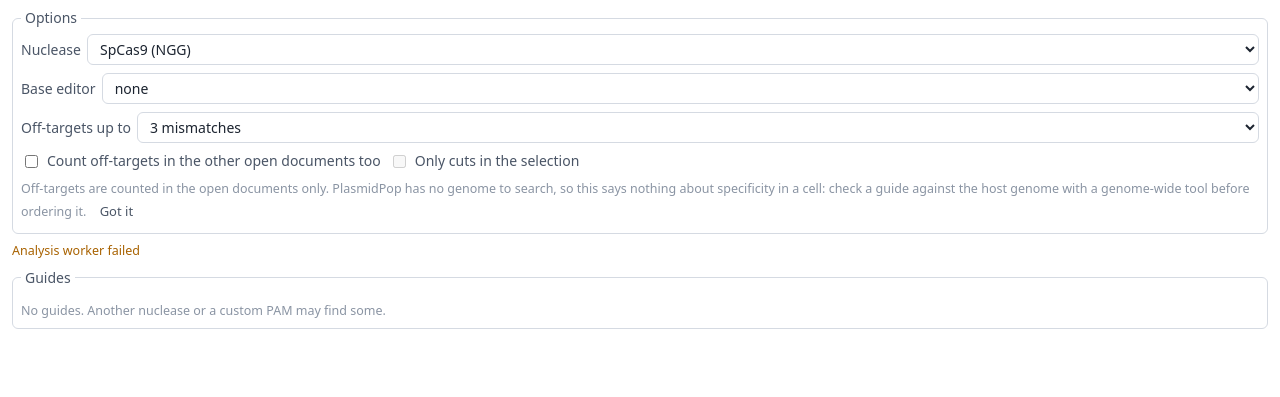
Test: CrisprPanel › refuses a custom PAM that is not IUPAC, and scans once it is
This screenshot has width=1280, height=397.
Expected: the text "Looking for guides…" is not shown
Expected: the text "No guides. Another nuclease or a custom PAM may find some." is shown, [21,302,386,319]
Select "Custom PAM…" in the dropdown labelled "Nuclease". click: (673, 50)
box: [87,34,1259,65]
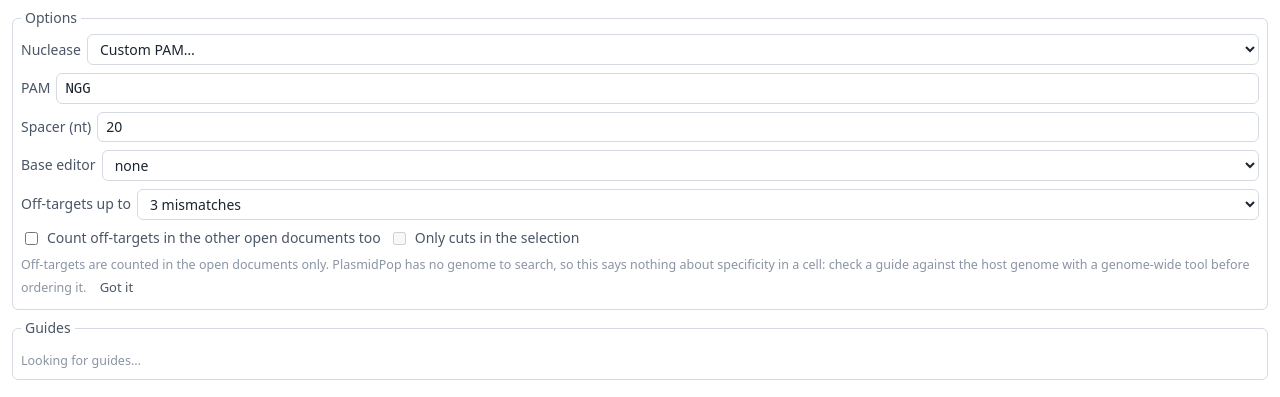
Replace the text in the field named "PAM in IUPAC codes" with "NXG". click: (658, 88)
box: [56,73,1259,104]
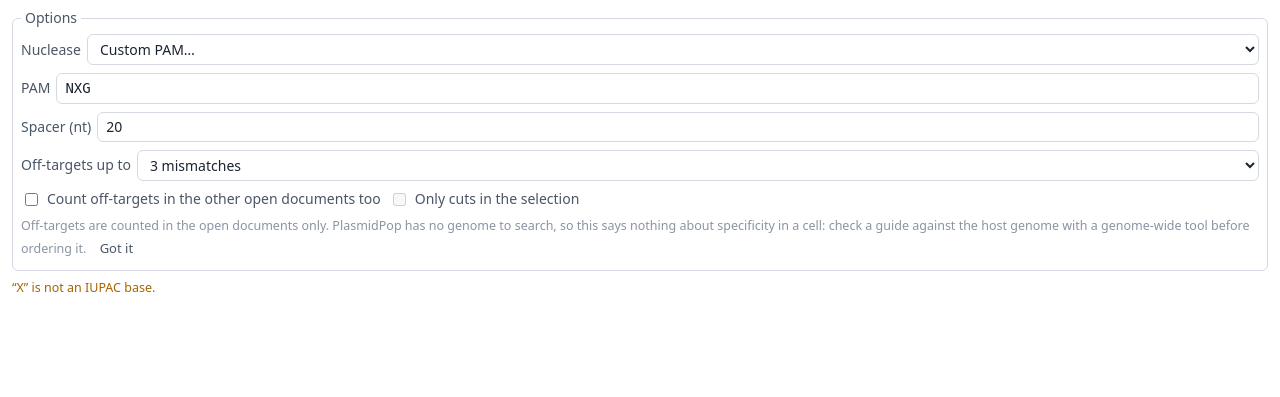
Expected: the text "“X” is not an IUPAC base." is shown, [12,279,155,296]
Expected: the text "Guides" is gone
Replace the text in the field labelled "PAM" with "NGA". click: (658, 88)
box: [56,73,1259,104]
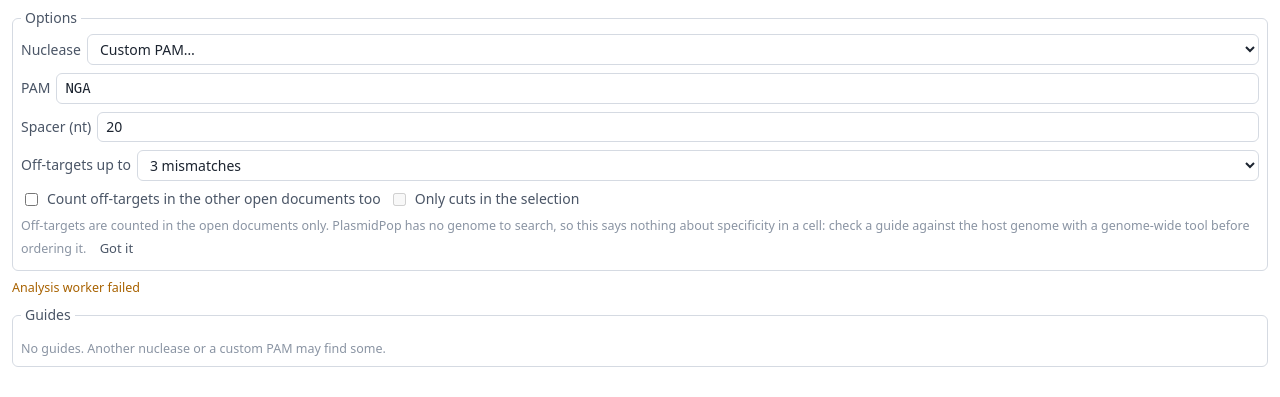
Expected: the text "Guides" is shown, [21,305,75,326]
